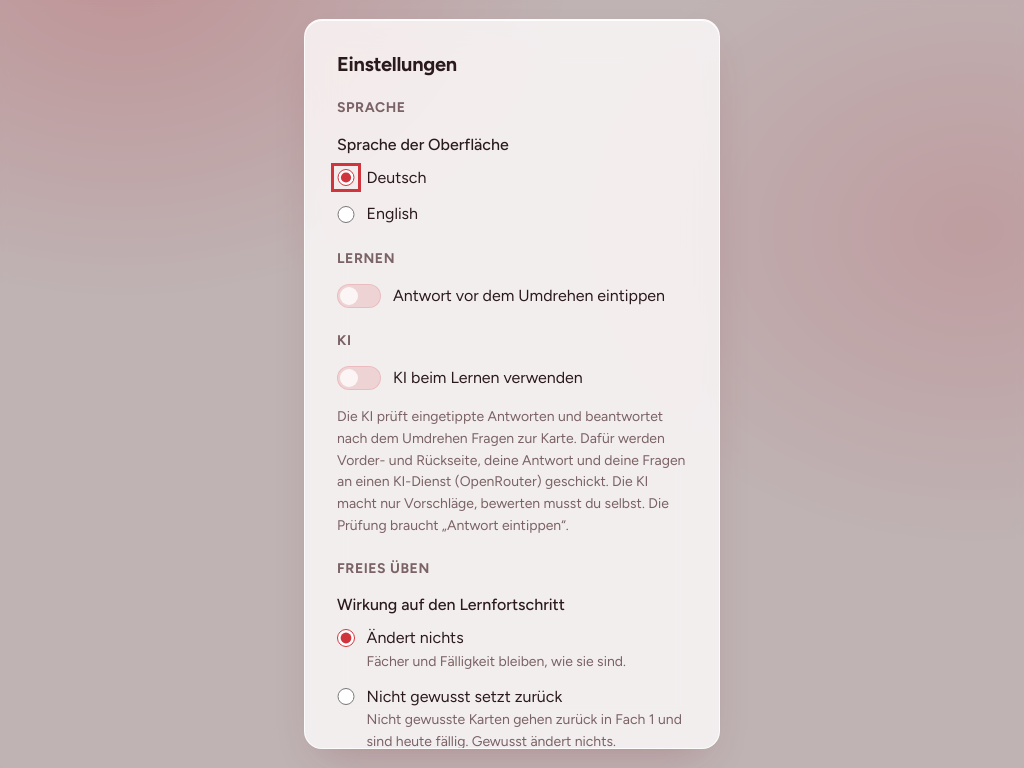
LanguageSwitch › can be changed in the settings
expect the radio button labelled "Deutsch" is checked: met, box [337, 169, 355, 186]
Click the radio button labelled "English": (346, 214) [337, 206, 355, 223]
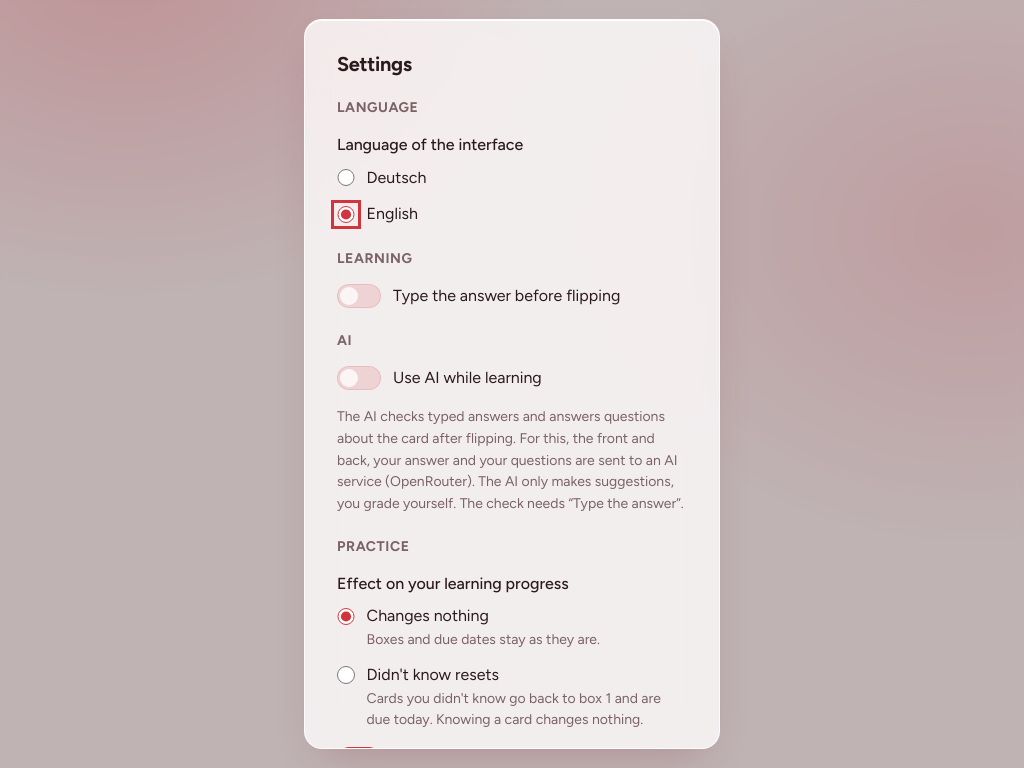
expect the radio button labelled "English" is checked: met, box [337, 206, 355, 223]
expect the heading "Settings" is shown: met, box [337, 52, 412, 76]
